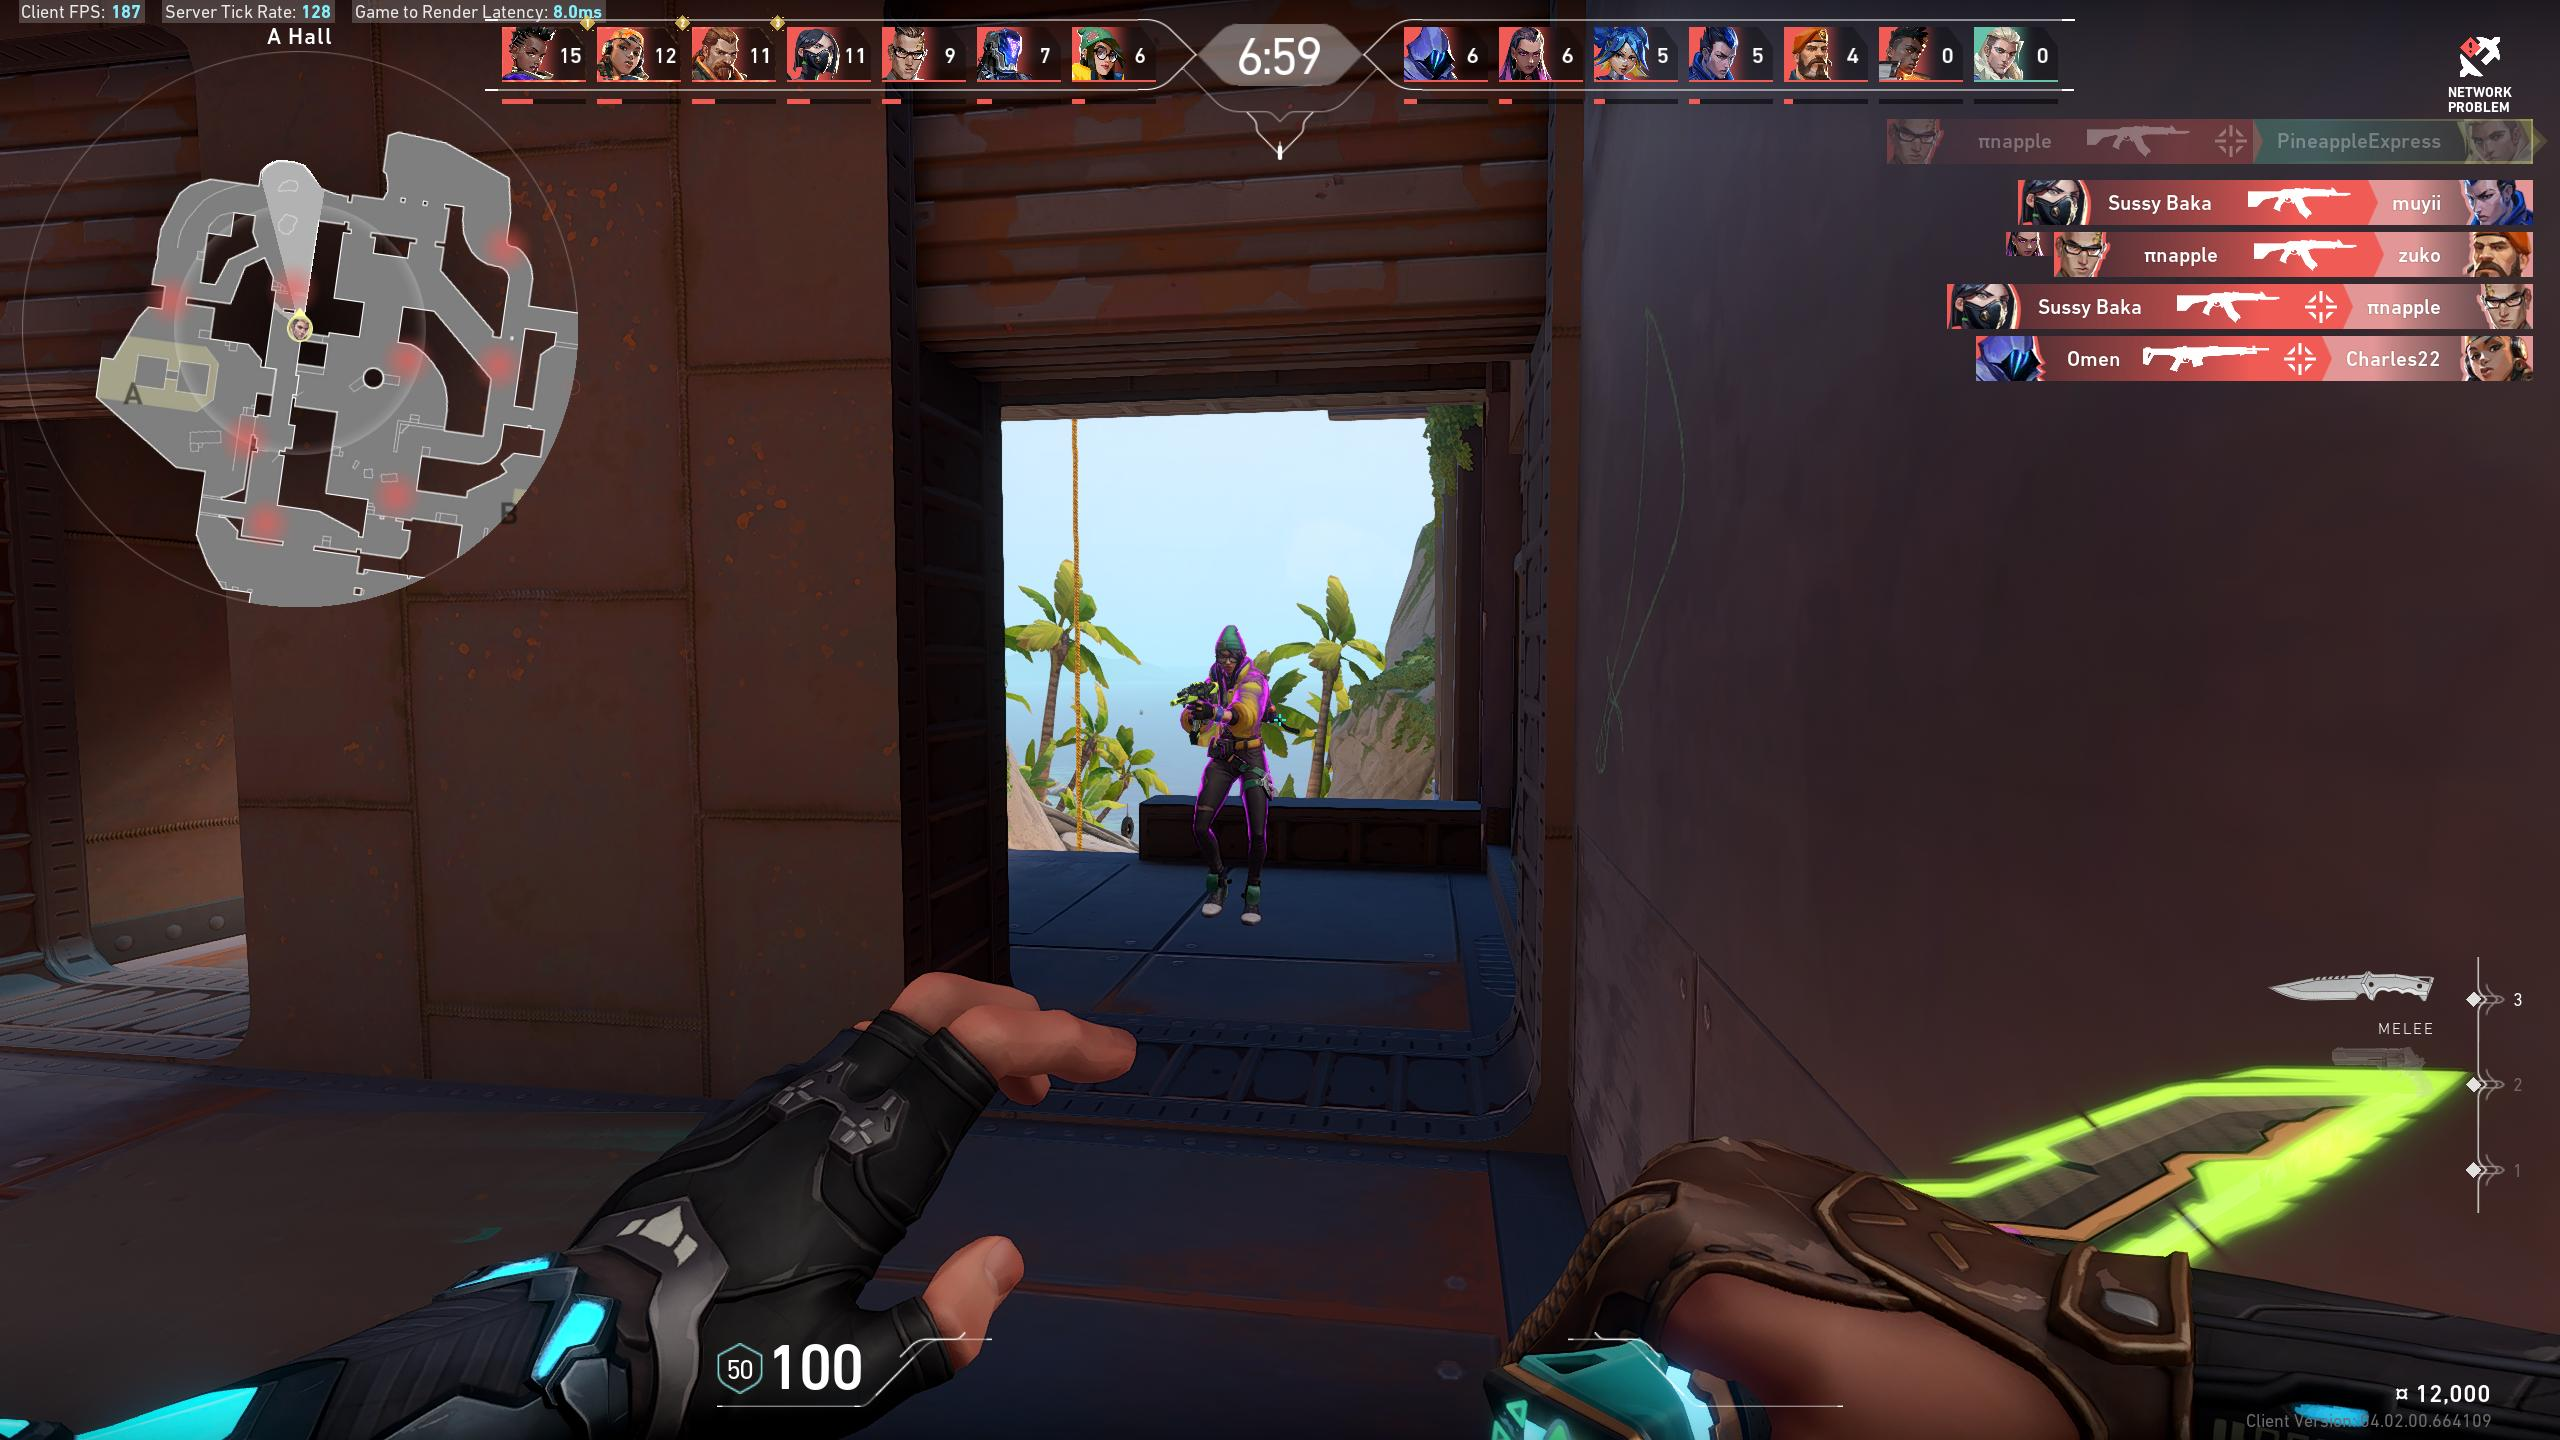enemyBody: (1208, 677, 1255, 749)
enemyHead: (1215, 642, 1241, 673)
